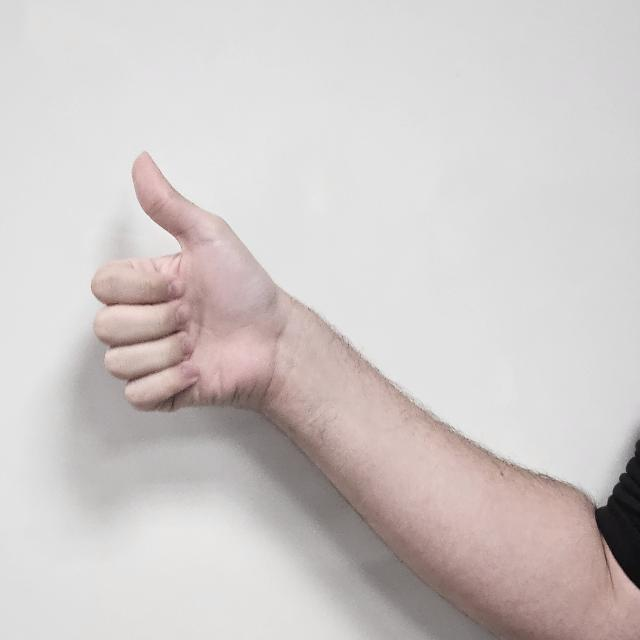Start: (90, 150, 274, 446)
